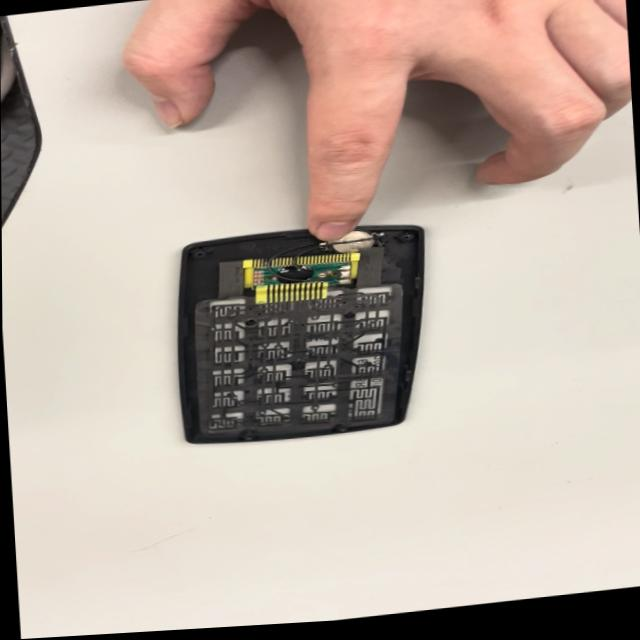front_panel: (169, 216, 444, 456)
